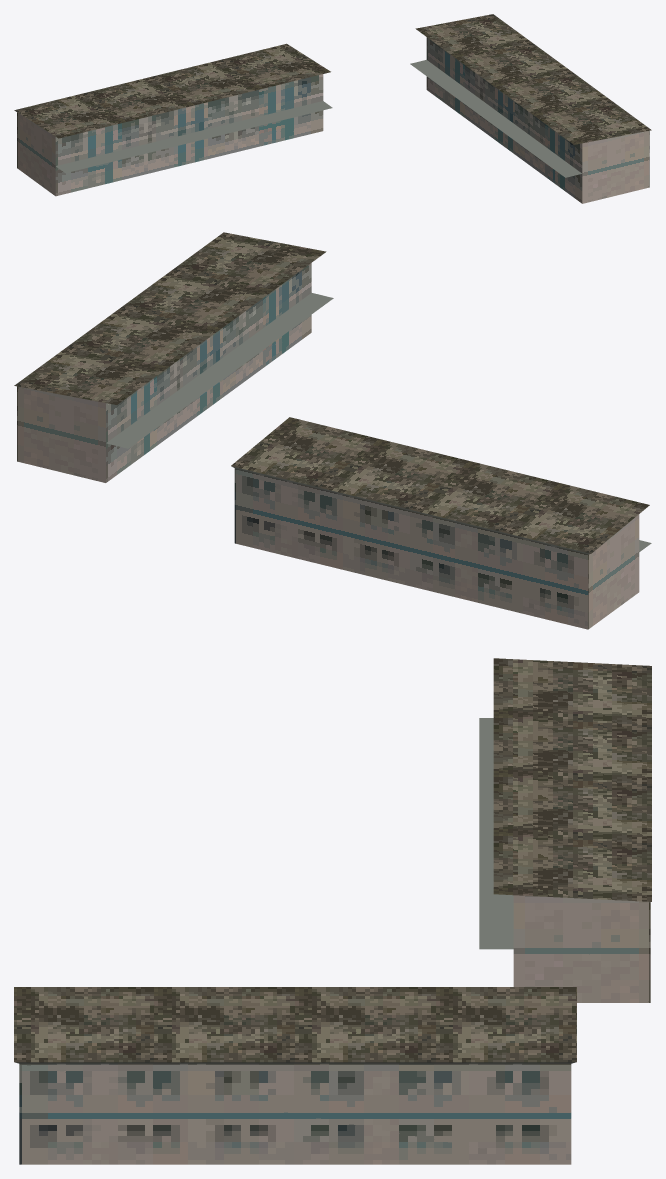
File: lod_cn2_nmot_01.obj
3 views of the same model, one above another, from view 1: azimuth 30°, elevation 25°; view 2: azimuth 150°, elevation 25°; view 3: azimuth 270°, elevation 25° (orthographic). The views are drawn at different scales.
Parts seen in each view (by area): view 1: lod_cn2_nmot_01; view 2: lod_cn2_nmot_01; view 3: lod_cn2_nmot_01.
Boxes of the visible parts, box(x1,y1,x2,y2) form: lod_cn2_nmot_01: box(14, 14, 651, 203); lod_cn2_nmot_01: box(14, 232, 651, 629); lod_cn2_nmot_01: box(14, 658, 651, 1164).
Size of the model in its own units: 40.09 by 5.23 by 27.28.
Materials: 2 (2 with a texture image).
